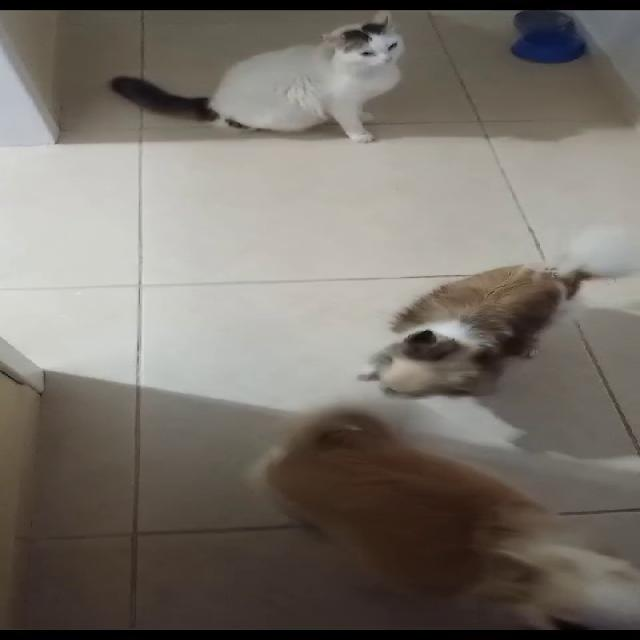Pedrita: (308, 224, 638, 417)
Theo: (184, 379, 639, 639)
